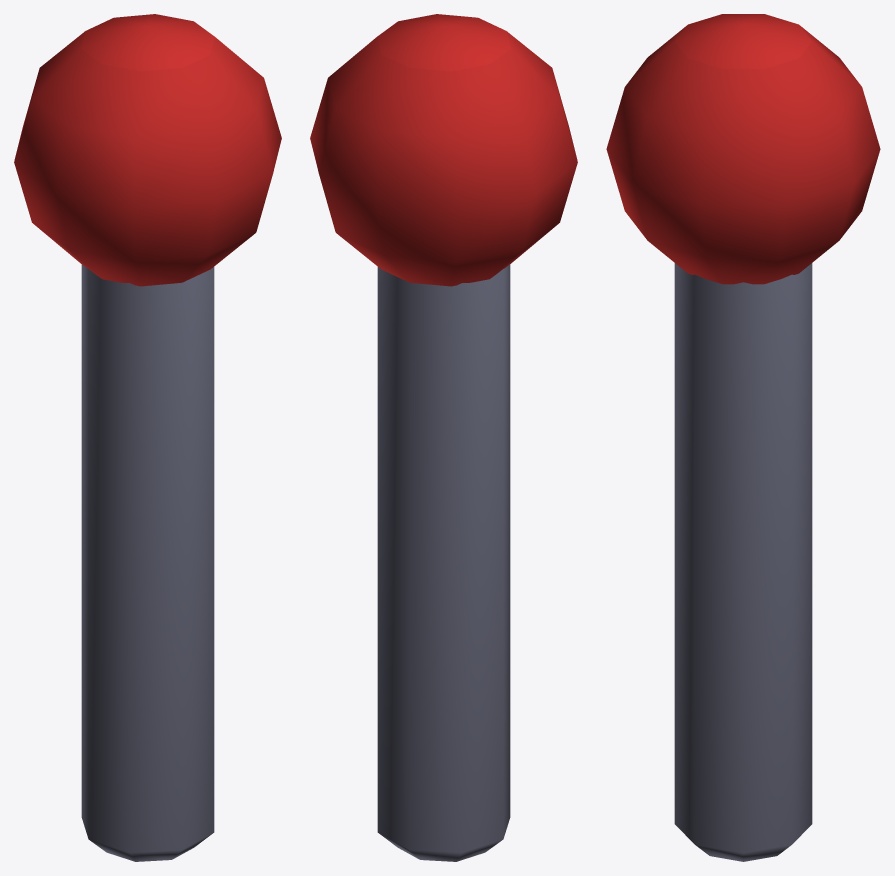
The model's file is SM_Station_LighthouseLever.fbx.
The picture shows the model from 3 angles, left to right: view 1: azimuth 30°, elevation 25°; view 2: azimuth 150°, elevation 25°; view 3: azimuth 270°, elevation 25°; orthographic projection.
Visible parts, largest first — view 1: SM_Station_LighthouseLever; view 2: SM_Station_LighthouseLever; view 3: SM_Station_LighthouseLever.
Boxes of the visible parts, <box> form: SM_Station_LighthouseLever: <box>14,14,281,861</box>; SM_Station_LighthouseLever: <box>310,14,577,861</box>; SM_Station_LighthouseLever: <box>606,14,880,861</box>.
Size of the model in its own units: 9.55 by 33.04 by 10.05.
